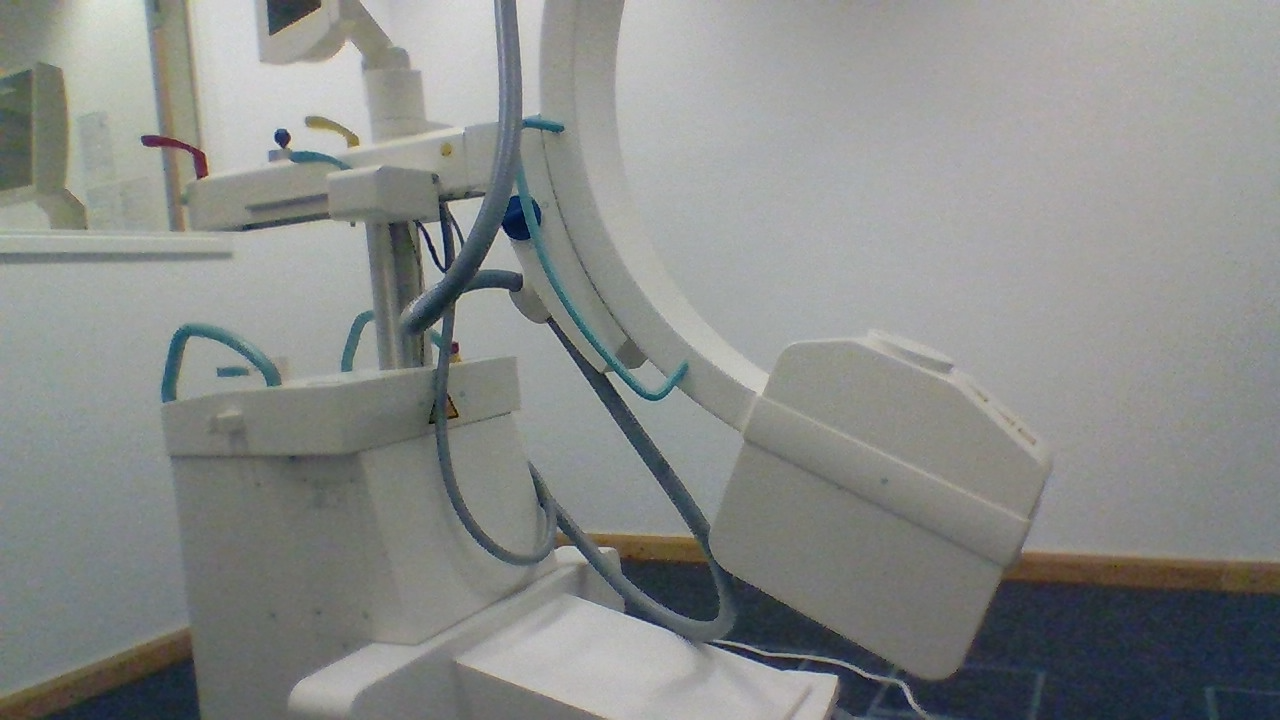carmBACK: (214, 354, 293, 390)
carmDOWN: (756, 326, 1057, 524)
carmLOCK: (499, 193, 542, 243)
